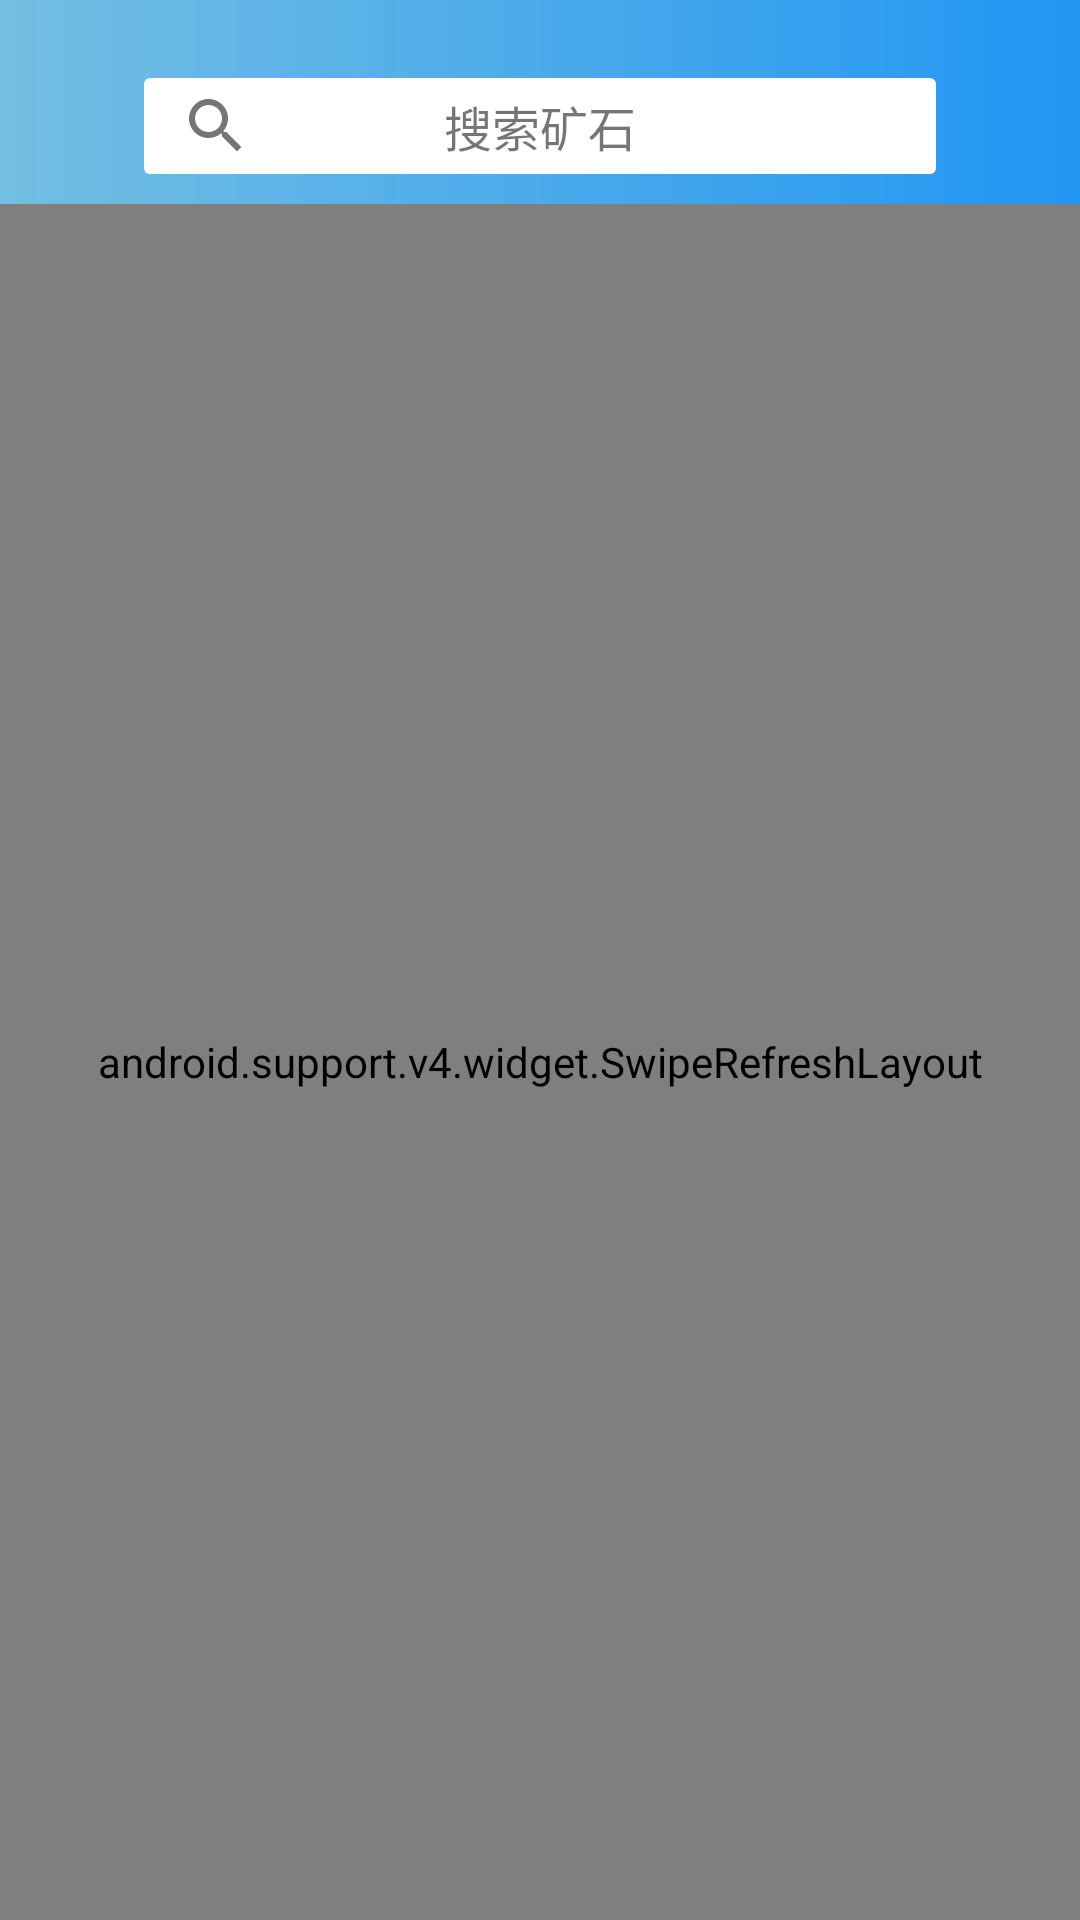

Point at icon controls on the screen. Image size 1080w x 1920h, points as [x,y].
search: [215,125]
